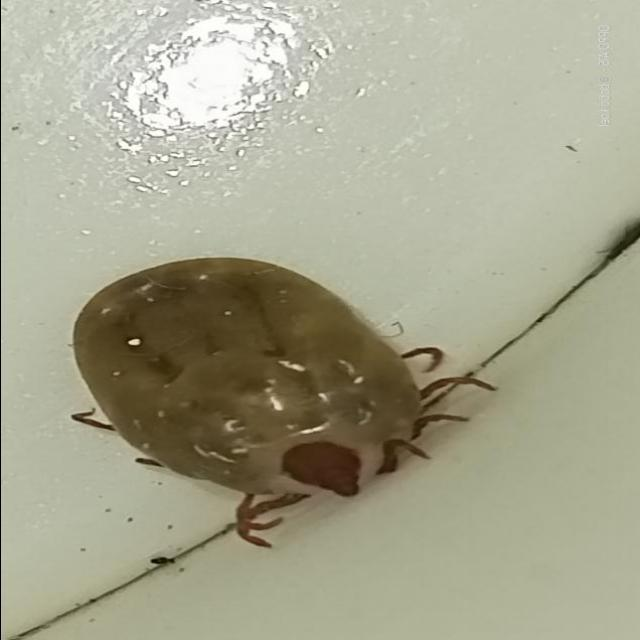Rhipicephalus Sanguineus-F-Fed: (67, 256, 498, 550)
